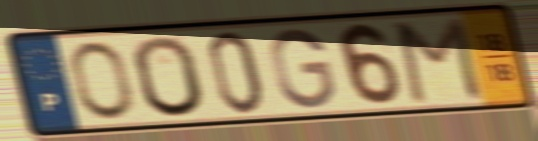0: (204, 28, 268, 117)
6: (335, 20, 404, 110)
G: (268, 26, 339, 111)
M: (392, 14, 487, 106)
O: (130, 33, 209, 120), (67, 38, 137, 122)
